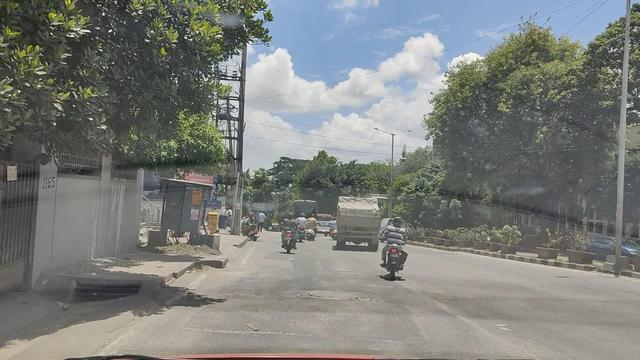HMV: (329, 191, 384, 249), (288, 196, 321, 240)
RoadDamages: (186, 311, 280, 348), (292, 273, 375, 309)
